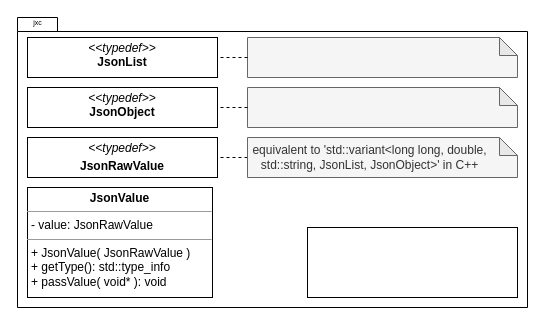
The diagram is 545 pixels wide and 325 high, and some of its shapes have lost their labels. Each missing label, with the box of its shape:
equivalent to 'std::map<std::string, JsonValue>' in C++: (246, 86, 518, 128)
equivalent to 'std::vector<JsonValue>' in C++: (246, 36, 518, 78)
JsonUtils + toJson( JsonValue ):std::string + fromJson( std::string ): JsonValue: (306, 226, 518, 298)
